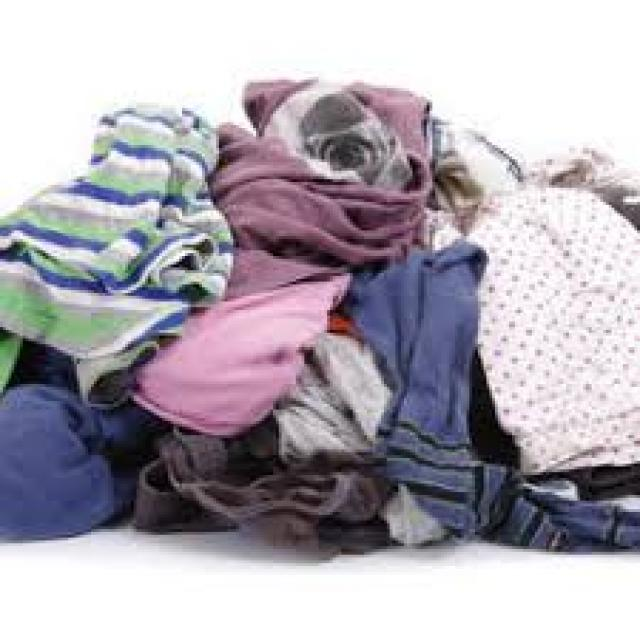Clothes -Biodegradable-: (0, 77, 640, 560)
